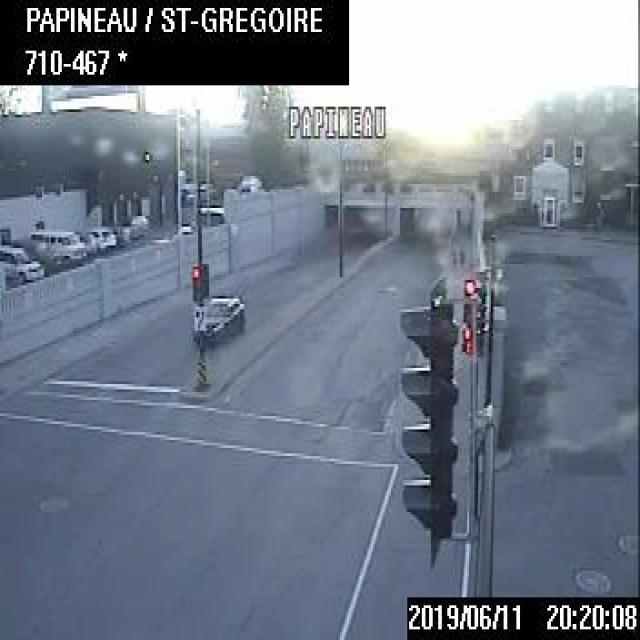vehicle: (189, 291, 246, 341), (26, 225, 86, 266), (0, 244, 42, 279), (87, 225, 115, 252)
